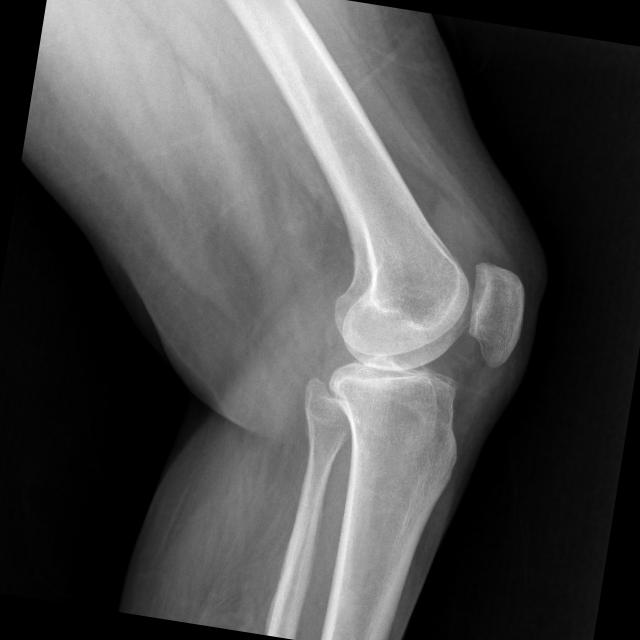Knee: (301, 234, 531, 476)
